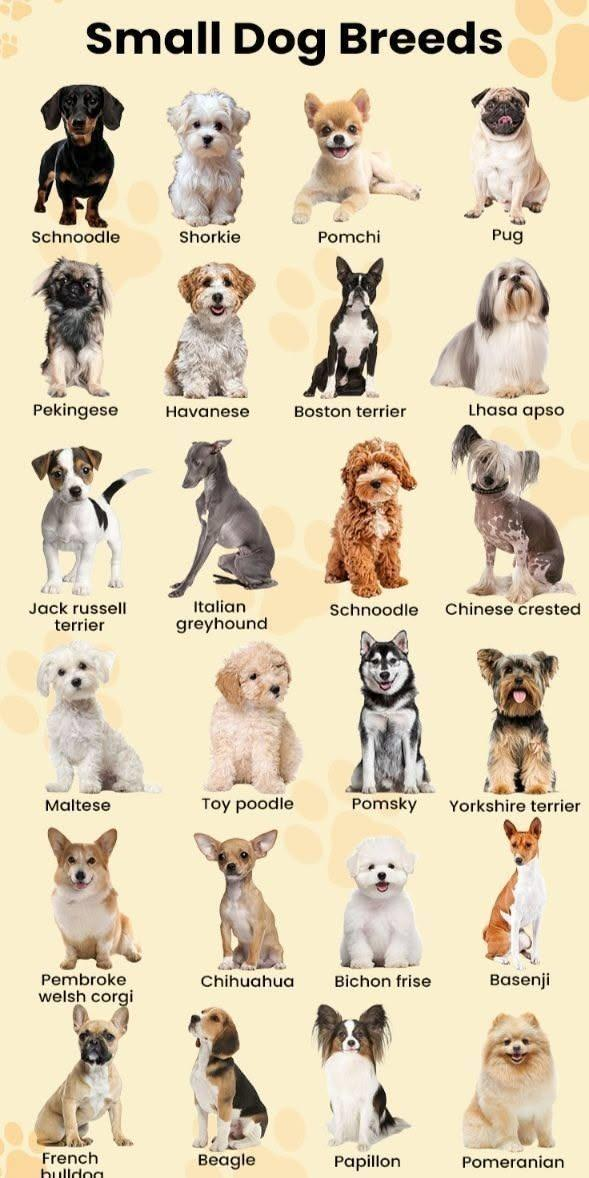adult_dog: (449, 422, 577, 603), (32, 640, 164, 794), (30, 444, 154, 596), (428, 253, 552, 399), (166, 439, 278, 599), (290, 91, 422, 225), (202, 640, 305, 795), (322, 436, 419, 598), (308, 1001, 411, 1150), (344, 628, 436, 794), (33, 1002, 135, 1149), (44, 825, 144, 972), (28, 81, 126, 226), (192, 828, 288, 972), (462, 1013, 557, 1151), (162, 259, 255, 399), (300, 254, 388, 399), (186, 1004, 270, 1152), (162, 92, 253, 226), (477, 648, 560, 794), (462, 89, 550, 225), (338, 835, 426, 971), (36, 253, 113, 398), (480, 817, 548, 971)
